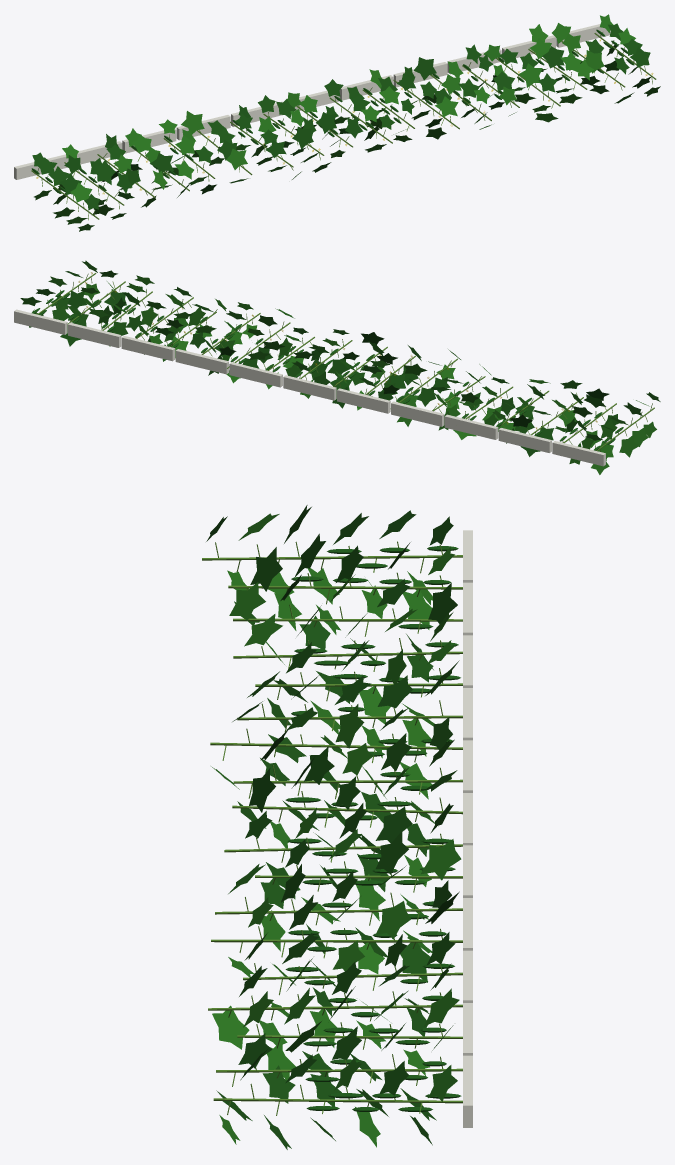
Rendered from row26.obj.
3 renders of one model, top to bottom at view 1: azimuth 30°, elevation 25°; view 2: azimuth 150°, elevation 25°; view 3: azimuth 270°, elevation 25°, orthographic. The views are drawn at different scales.
Visible parts, largest first — view 1: row26; view 2: row26; view 3: row26.
Part boxes in pixels (left/top/right/bottom): row26: left=14, top=14, right=660, bottom=231; row26: left=14, top=260, right=660, bottom=474; row26: left=202, top=505, right=472, bottom=1149.
Bounding box in the file's own units: 10.96 × 0.9153 × 2.18.
